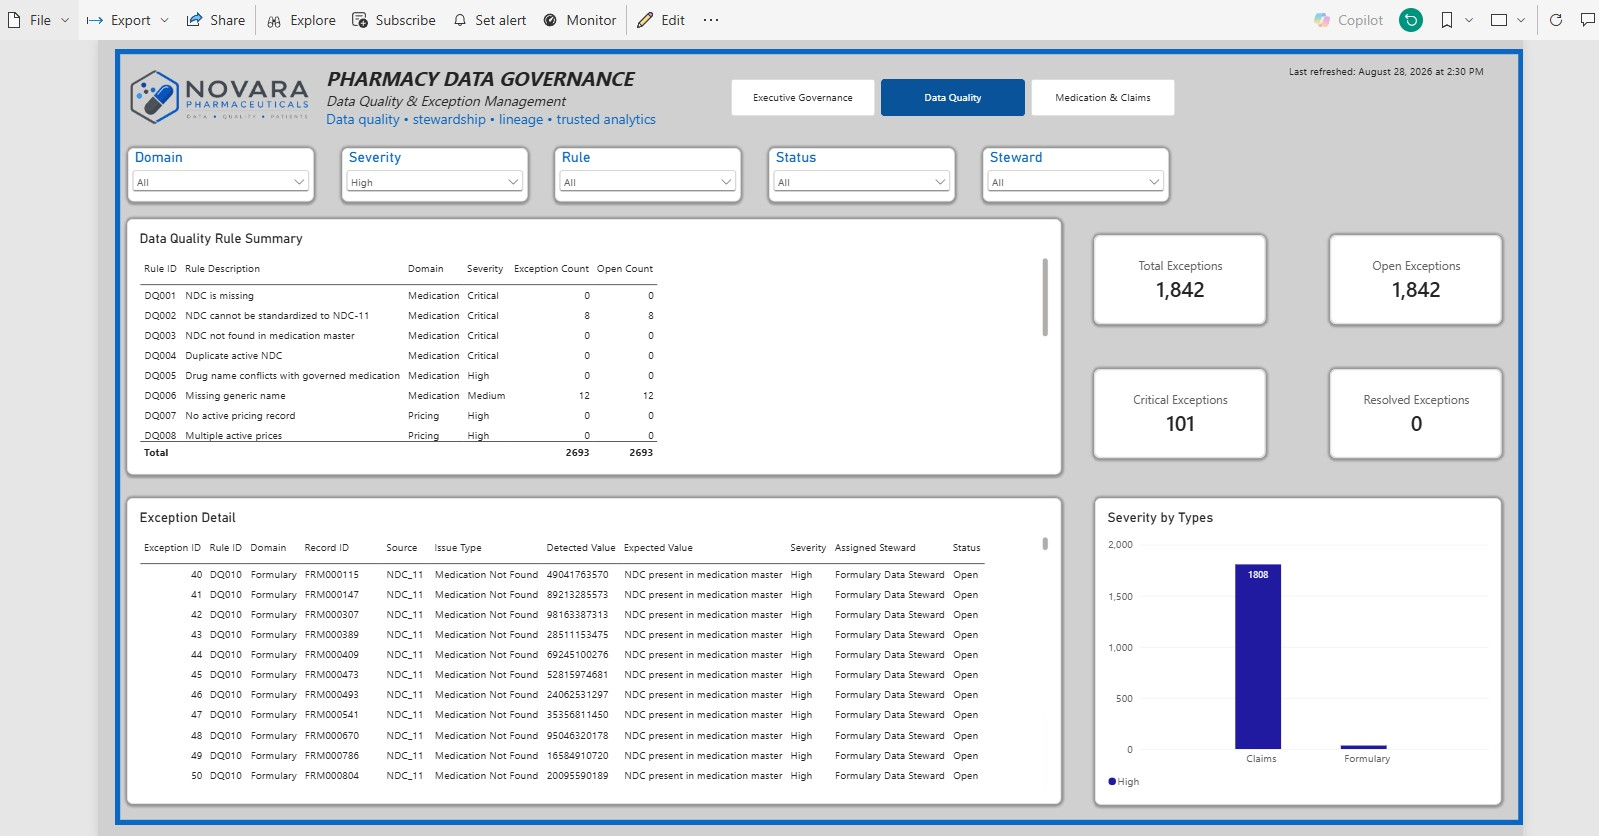

The dashboard page shown, as its layout file describes it:
{"tool":"powerbi","page":{"name":"Data Quality","canvas":[1920,1080],"ordinal":1},"visuals":[{"type":"shape","box":[23.3,11.7,1896.7,1045],"z":0},{"type":"textbox","box":[306.7,31.7,643.3,93.3],"z":1000},{"type":"cardVisual","title":"Governed Claim %","fields":{"Data":["reporting vw_executive_governance.Total Exceptions"]},"box":[1341.9,262.3,231,120],"z":2000},{"type":"cardVisual","title":"Governed Claim %","fields":{"Data":["reporting vw_executive_governance.Open Exceptions"]},"box":[1659.5,262.3,231,120],"z":3000},{"type":"cardVisual","title":"Governed Claim %","fields":{"Data":["reporting vw_executive_governance.Critical Exceptions"]},"box":[1341.9,442.5,231,120],"z":4000},{"type":"cardVisual","title":"Governed Claim %","fields":{"Data":["reporting vw_executive_governance.Resolved Exceptions"]},"box":[1659.5,442.5,231,120],"z":5000},{"type":"columnChart","title":"Severity by Types","fields":{"Category":["reporting vw_data_quality_exception_detail.Domain"],"Series":["reporting vw_data_quality_exception_detail.Severity"],"Y":["CountNonNull(reporting vw_data_quality_exception_detail.Issue_Type)"]},"box":[1342.7,617.1,547,413],"z":6000},{"type":"image","box":[35,11.7,255,133.3],"z":7000},{"type":"slicer","title":"Domain","fields":{"Values":["reporting vw_data_quality_exception_detail.Domain"]},"box":[40,145,250,71.7],"z":8000},{"type":"slicer","title":"Domain","fields":{"Values":["reporting vw_data_quality_exception_detail.Severity"]},"box":[327.9,145,250,71.7],"z":9000},{"type":"slicer","title":"Domain","fields":{"Values":["reporting vw_data_quality_exception_detail.Rule_ID"]},"box":[615.8,145,250,71.7],"z":10000},{"type":"slicer","title":"Domain","fields":{"Values":["reporting vw_data_quality_exception_detail.Status"]},"box":[903.8,145,250,71.7],"z":11000},{"type":"slicer","title":"Domain","fields":{"Values":["reporting vw_data_quality_exception_detail.Assigned_Steward"]},"box":[1191.7,145,250,71.7],"z":12000},{"type":"tableEx","title":"Exception Detail","fields":{"Values":["reporting vw_data_quality_exception_detail.Exception_ID","reporting vw_data_quality_exception_detail.Rule_ID","reporting vw_data_quality_exception_detail.Domain","reporting vw_data_quality_exception_detail.Record_ID","reporting vw_data_quality_exception_detail.Source_Field","reporting vw_data_quality_exception_detail.Issue_Type","reporting vw_data_quality_exception_detail.Detected_Value","reporting vw_data_quality_exception_detail.Expected_Value","reporting vw_data_quality_exception_detail.Severity","reporting vw_data_quality_exception_detail.Assigned_Steward","reporting vw_data_quality_exception_detail.Status"]},"box":[39.3,617.4,1258,412.2],"z":13000},{"type":"tableEx","title":"Data Quality Rule Summary","fields":{"Values":["reporting vw_data_quality_by_rule.Rule_ID","reporting vw_data_quality_by_rule.Rule_Description","reporting vw_data_quality_by_rule.Domain","reporting vw_data_quality_by_rule.Severity","Sum(reporting vw_data_quality_by_rule.Exception_Count)","Sum(reporting vw_data_quality_by_rule.Open_Count)"]},"box":[39.3,240.9,1258,344.4],"z":14000},{"type":"pageNavigator","box":[852.3,51.9,600,50],"z":14001},{"type":"textbox","box":[1603.8,32.1,291.7,62.6],"z":14002}]}

Visuals, with their boxes in screenshot pixels (x1, y1, x2, y2):
shape: (x1=117, y1=50, x2=1515, y2=821)
textbox: (x1=326, y1=65, x2=800, y2=134)
"Governed Claim %" cardVisual: (x1=1089, y1=235, x2=1259, y2=323)
"Governed Claim %" cardVisual: (x1=1323, y1=235, x2=1494, y2=323)
"Governed Claim %" cardVisual: (x1=1089, y1=368, x2=1259, y2=456)
"Governed Claim %" cardVisual: (x1=1323, y1=368, x2=1494, y2=456)
"Severity by Types" columnChart: (x1=1090, y1=497, x2=1493, y2=801)
image: (x1=126, y1=50, x2=314, y2=149)
"Domain" slicer: (x1=129, y1=149, x2=314, y2=201)
"Domain" slicer: (x1=342, y1=149, x2=526, y2=201)
"Domain" slicer: (x1=554, y1=149, x2=738, y2=201)
"Domain" slicer: (x1=766, y1=149, x2=950, y2=201)
"Domain" slicer: (x1=978, y1=149, x2=1163, y2=201)
"Exception Detail" tableEx: (x1=129, y1=497, x2=1056, y2=801)
"Data Quality Rule Summary" tableEx: (x1=129, y1=219, x2=1056, y2=473)
pageNavigator: (x1=728, y1=80, x2=1171, y2=117)
textbox: (x1=1282, y1=65, x2=1497, y2=111)
